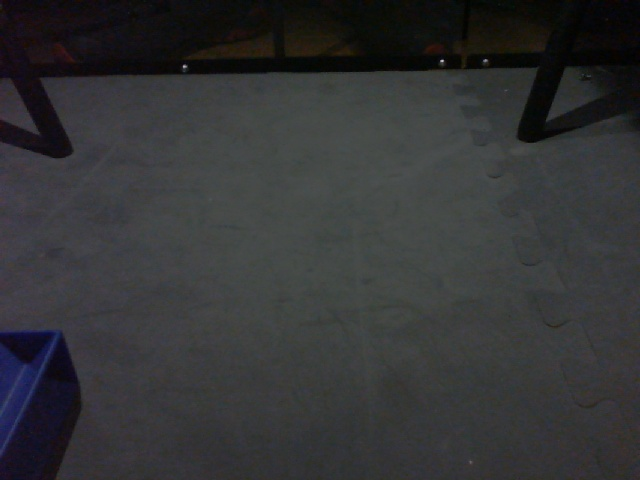BlueSample: (1, 324, 82, 480)
